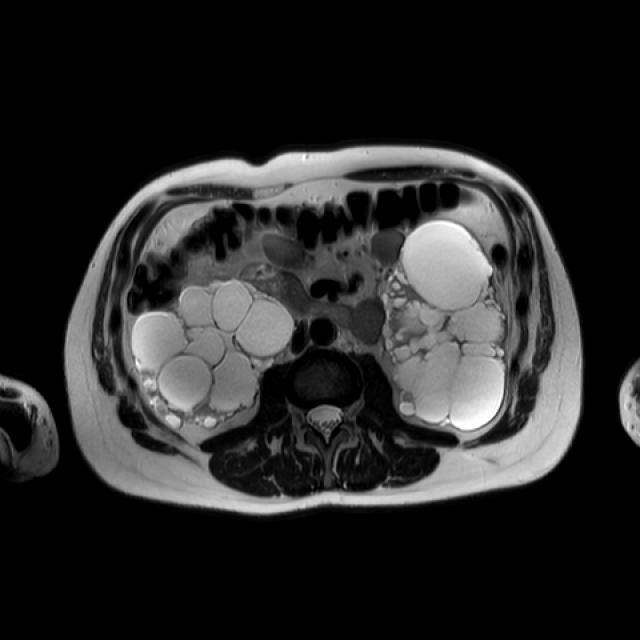sag: (129, 277, 295, 433)
sol: (381, 217, 509, 433)
